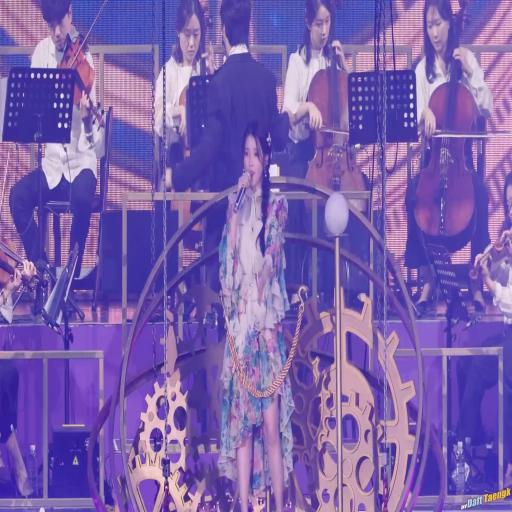IU: (240, 122, 273, 189)
